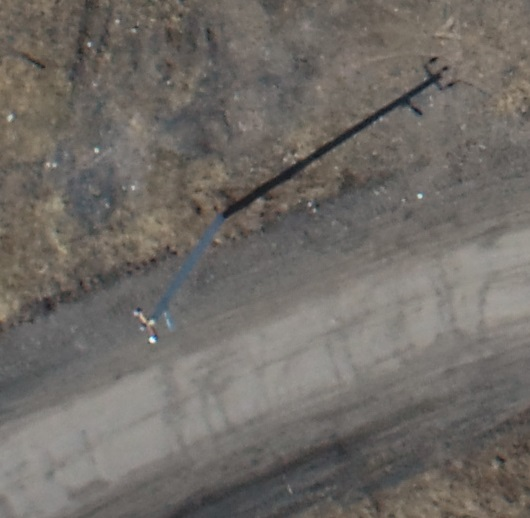opora: (131, 172, 284, 346)
